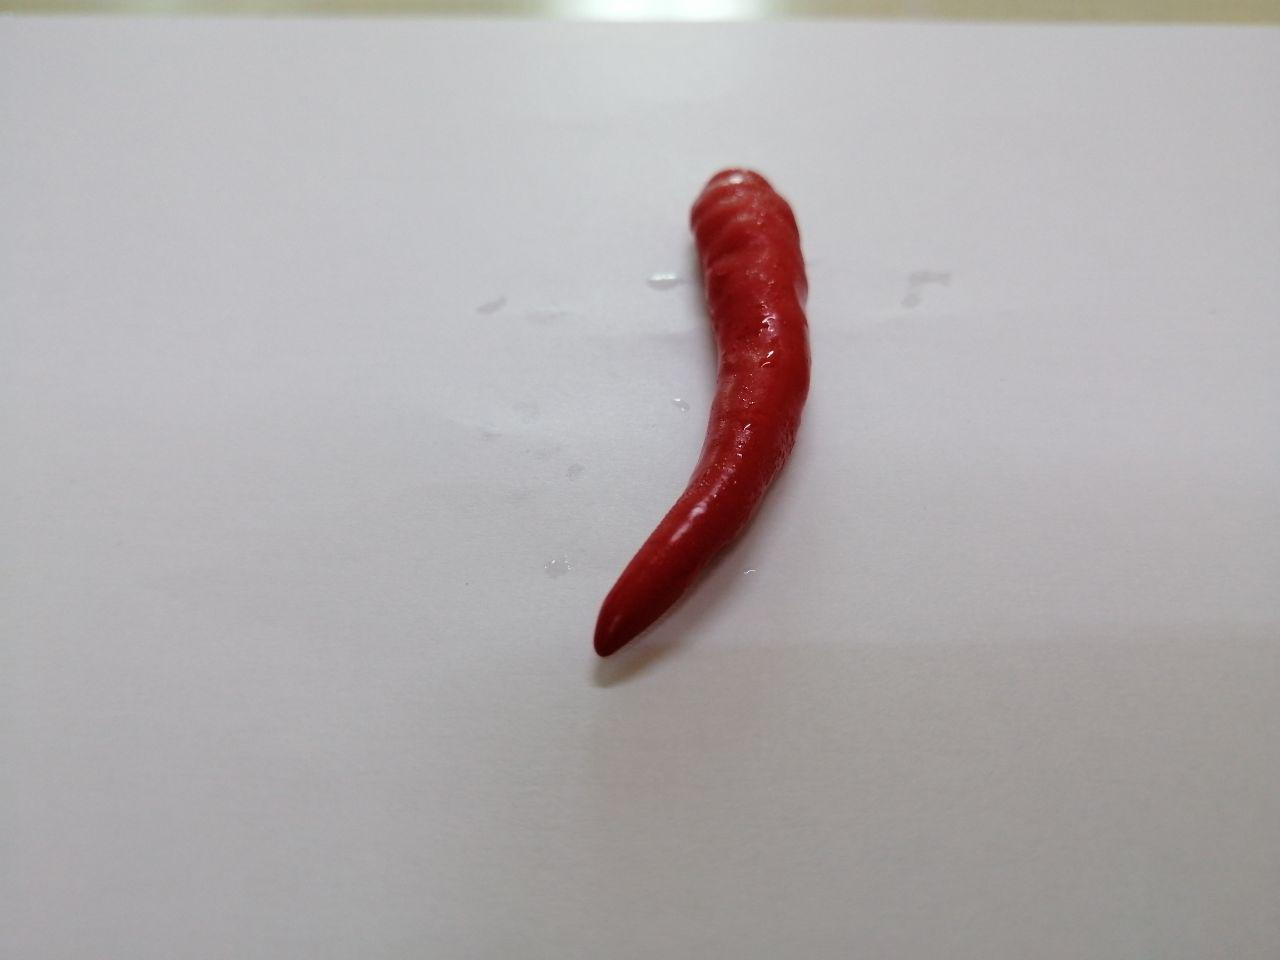lada merah: (547, 150, 833, 678)
